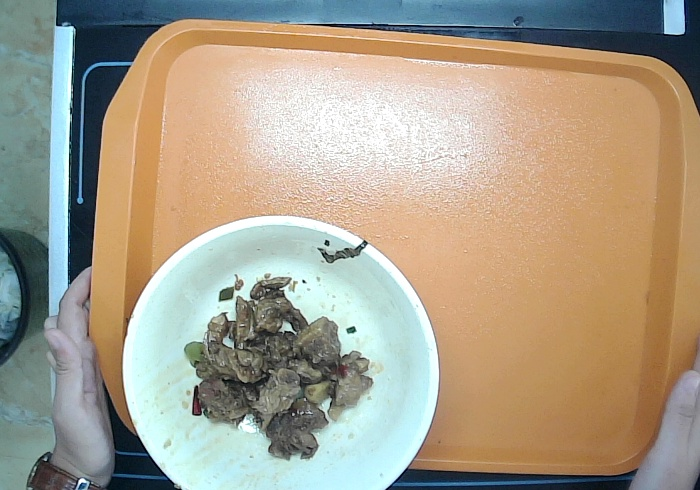ZNLD-Da_Tang_Wan: (120, 213, 441, 490)
